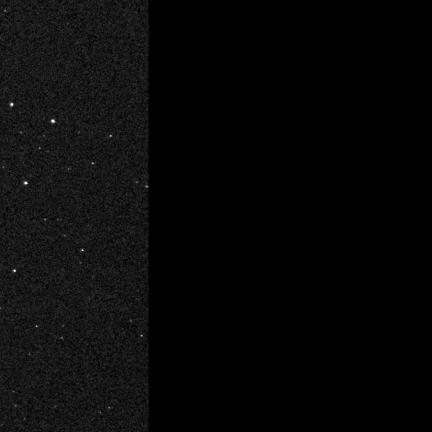blob: (24, 181, 28, 186), (51, 119, 55, 123), (81, 249, 84, 252), (10, 103, 13, 106), (13, 270, 16, 272)
